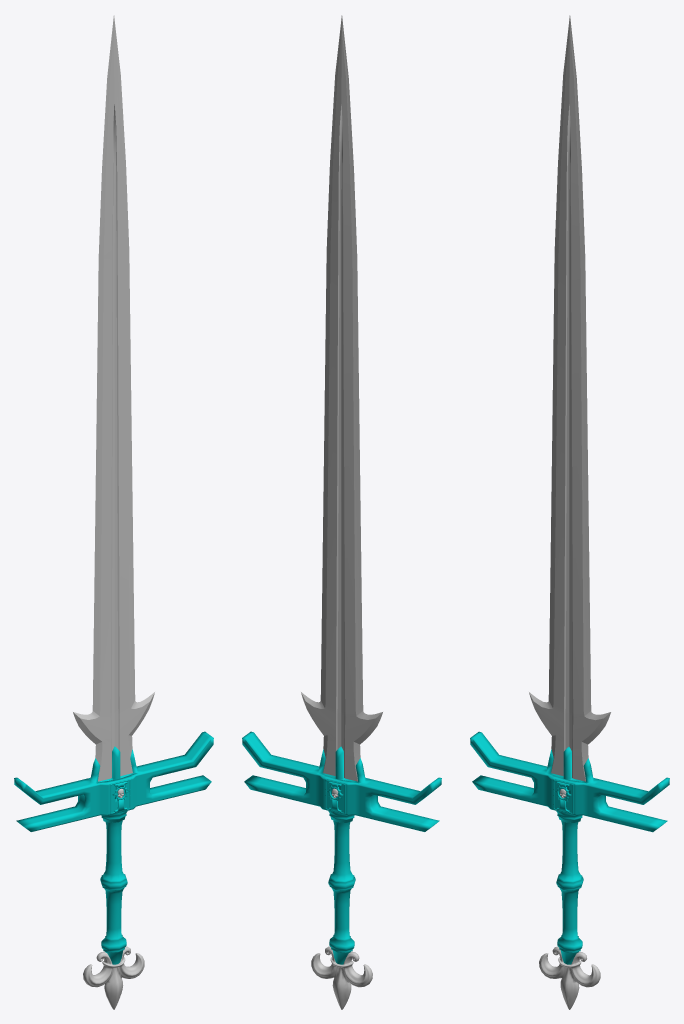
File: powersword5.obj
3 views of the same model, side by side, from view 1: azimuth 30°, elevation 25°; view 2: azimuth 150°, elevation 25°; view 3: azimuth 330°, elevation 25° (orthographic).
Parts seen in each view (by area): view 1: Cube.003, Cube_002.002_Cube.006, Cylinder.001, Fleurdelis_001; view 2: Cube.003, Cube_002.002_Cube.006, Cylinder.001, Fleurdelis_001; view 3: Cube.003, Cube_002.002_Cube.006, Cylinder.001, Fleurdelis_001.
Boxes of the visible parts, x1,y1,x2,y2 form: Cube.003: [73, 15, 154, 781]; Cube_002.002_Cube.006: [14, 731, 213, 831]; Cylinder.001: [100, 820, 127, 964]; Fleurdelis_001: [83, 946, 144, 1009]; Cube.003: [301, 15, 382, 781]; Cube_002.002_Cube.006: [242, 731, 441, 831]; Cylinder.001: [328, 820, 355, 964]; Fleurdelis_001: [311, 946, 372, 1009]; Cube.003: [529, 15, 610, 781]; Cube_002.002_Cube.006: [470, 731, 669, 832]; Cylinder.001: [556, 820, 583, 964]; Fleurdelis_001: [539, 946, 600, 1009].
Bounding box in the file's own units: 0.4449 × 2.22 × 0.0621.
